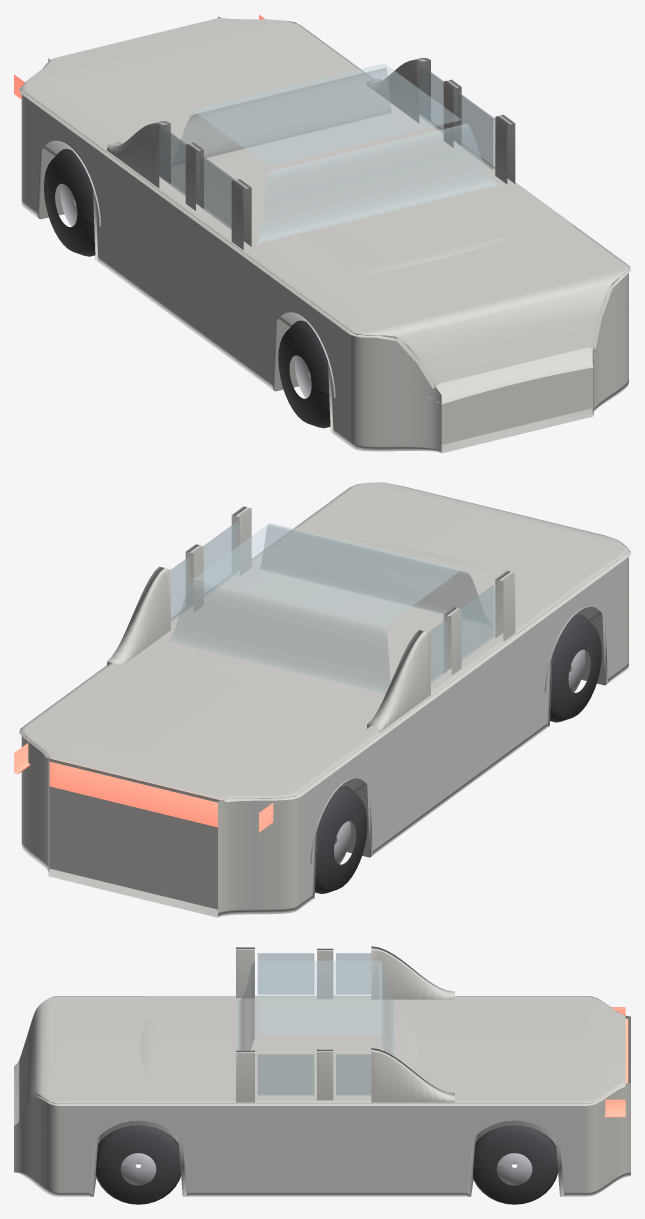
File: ev-sedan.glb
3 renders of one model, top to bottom at view 1: azimuth 30°, elevation 25°; view 2: azimuth 150°, elevation 25°; view 3: azimuth 270°, elevation 25°, orthographic. The views are drawn at different scales.
Parts seen in each view (by area): view 1: BodyShoulder, BodySide, Windshield, RoofGlass, BodyHood, RearWindow, BodyNose, WheelFLTire, WheelRLTire, BodyCPillar_L, BodyCPillar_R, BodyDeck (+8 smaller); view 2: BodyShoulder, BodySide, BodyTail, RoofGlass, RearWindow, Windshield, BodyHood, TailLightBar, WheelRLTire, WheelFLTire, BodyDeck, BodyCPillar_L (+9 smaller); view 3: BodyShoulder, BodySide, RoofGlass, BodyHood, WheelFRTire, WheelRRTire, BodyCPillar_R, BodyCPillar_L, SideWindowFR, SideWindowFL, SideWindowRR, SideWindowRL (+10 smaller).
Boxes of the visible parts, left/top/right/bottom form: BodyShoulder: left=19, top=18, right=630, bottom=388; BodySide: left=21, top=17, right=628, bottom=453; Windshield: left=256, top=124, right=501, bottom=244; RoofGlass: left=193, top=63, right=460, bottom=166; BodyHood: left=240, top=183, right=600, bottom=404; RearWindow: left=181, top=68, right=391, bottom=157; BodyNose: left=441, top=367, right=592, bottom=444; WheelFLTire: left=278, top=320, right=330, bottom=428; WheelRLTire: left=44, top=149, right=95, bottom=256; BodyCPillar_L: left=107, top=121, right=170, bottom=188; BodyCPillar_R: left=367, top=58, right=430, bottom=122; BodyDeck: left=204, top=121, right=368, bottom=165; BodyShoulder: left=19, top=482, right=630, bottom=802; BodySide: left=21, top=483, right=628, bottom=917; BodyTail: left=49, top=758, right=220, bottom=909; RoofGlass: left=193, top=523, right=460, bottom=626; RearWindow: left=168, top=582, right=390, bottom=694; Windshield: left=257, top=524, right=494, bottom=626; BodyHood: left=252, top=526, right=571, bottom=635; TailLightBar: left=49, top=759, right=221, bottom=827; WheelRLTire: left=315, top=786, right=367, bottom=893; WheelFLTire: left=550, top=614, right=601, bottom=722; BodyDeck: left=49, top=647, right=368, bottom=799; BodyCPillar_L: left=367, top=630, right=430, bottom=732; BodyShoulder: left=19, top=996, right=625, bottom=1123; BodySide: left=14, top=996, right=630, bottom=1196; RoofGlass: left=258, top=961, right=381, bottom=1035; BodyHood: left=14, top=996, right=238, bottom=1133; WheelFRTire: left=95, top=1125, right=180, bottom=1204; WheelRRTire: left=473, top=1125, right=557, bottom=1204; BodyCPillar_R: left=371, top=1048, right=454, bottom=1102; BodyCPillar_L: left=371, top=946, right=454, bottom=999; SideWindowFR: left=257, top=1054, right=314, bottom=1095; SideWindowFL: left=257, top=953, right=314, bottom=994; SideWindowRR: left=336, top=1054, right=371, bottom=1095; SideWindowRL: left=336, top=953, right=371, bottom=994.
Size of the model in its own units: 1.92 by 1.28 by 4.56.
